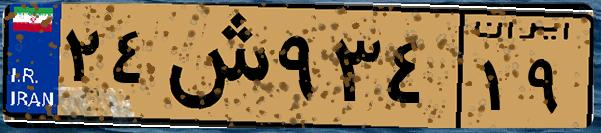1: (475, 38, 525, 113)
2: (57, 26, 110, 100)
3: (330, 28, 385, 110)
4: (385, 28, 445, 110), (110, 28, 158, 98)
9: (270, 28, 330, 110), (525, 38, 570, 115)
ش: (158, 12, 270, 120)
